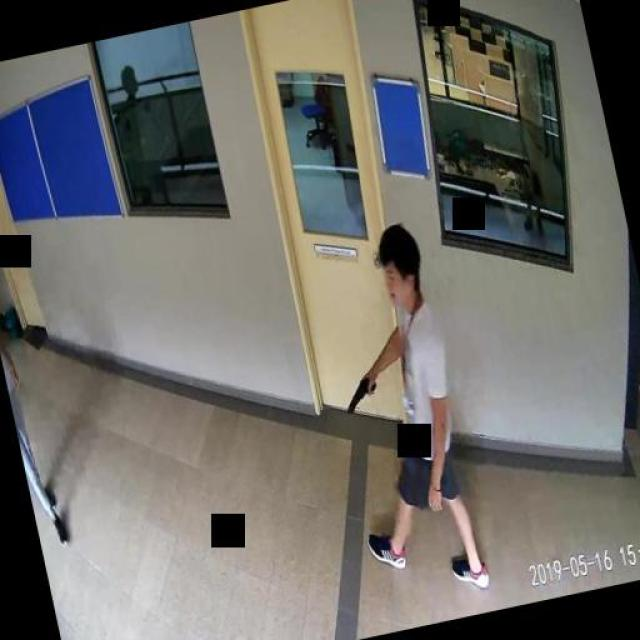gun: (338, 368, 378, 412)
